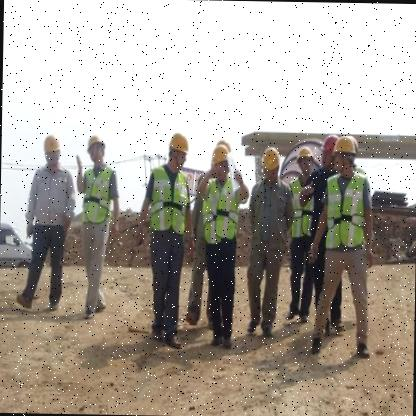capacete: (333, 134, 357, 176), (166, 130, 188, 170), (85, 135, 107, 169), (41, 130, 60, 168), (210, 144, 230, 180), (261, 146, 280, 182), (319, 132, 336, 168), (296, 146, 316, 176)
colete_refletivo: (318, 172, 372, 247), (140, 162, 192, 230), (198, 174, 242, 241), (78, 166, 119, 221), (286, 173, 316, 235)
sem_colete_refletivo: (246, 178, 292, 249), (25, 167, 76, 229)
